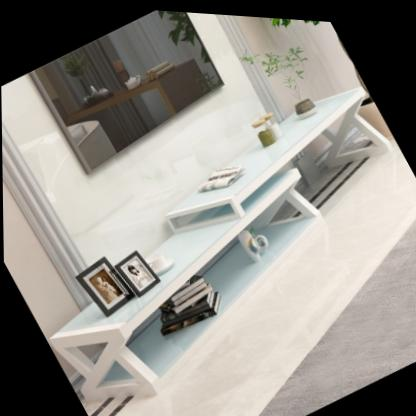Ceramic floor: (100, 97, 416, 416)
TV stand: (49, 81, 389, 399)
